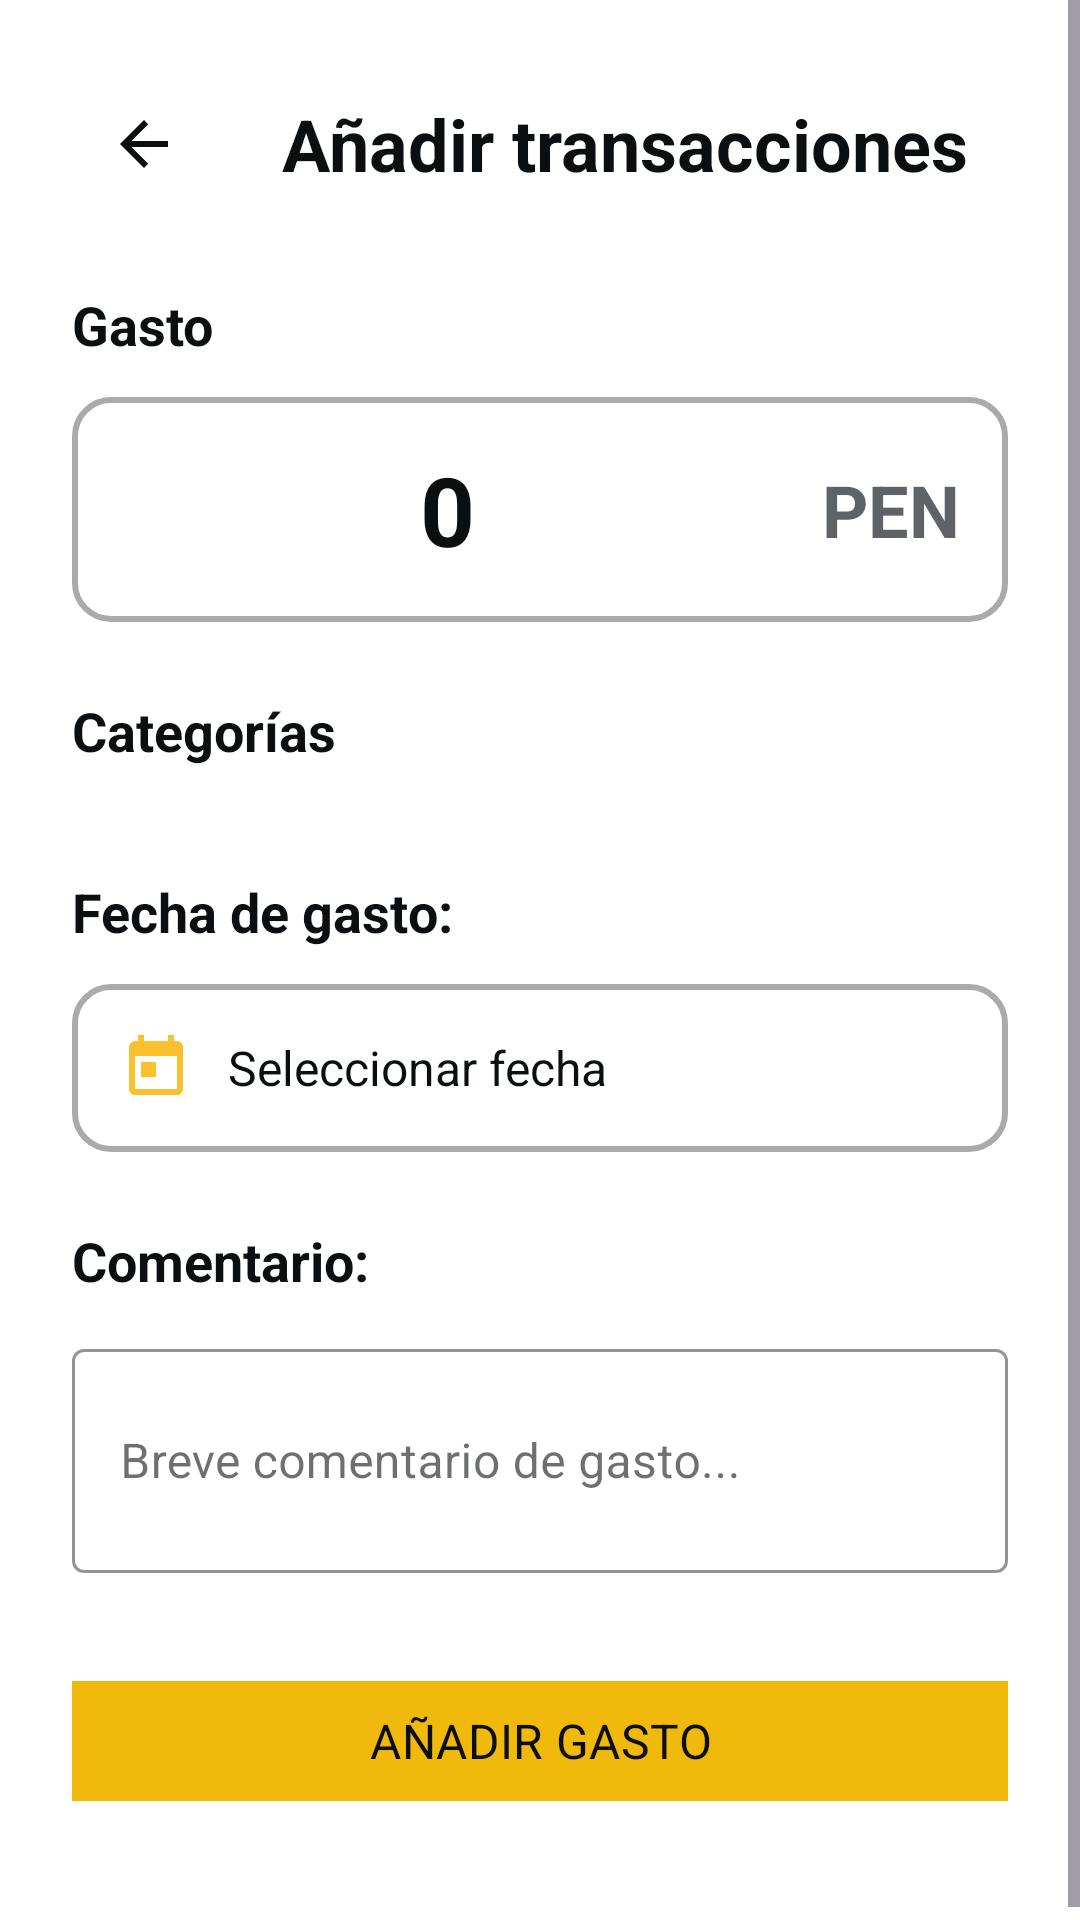

Point at icon controls on the screen. Image size 1080×1920, points as [x,y].
calendar: [156,1065]
Regresar: [144,144]
